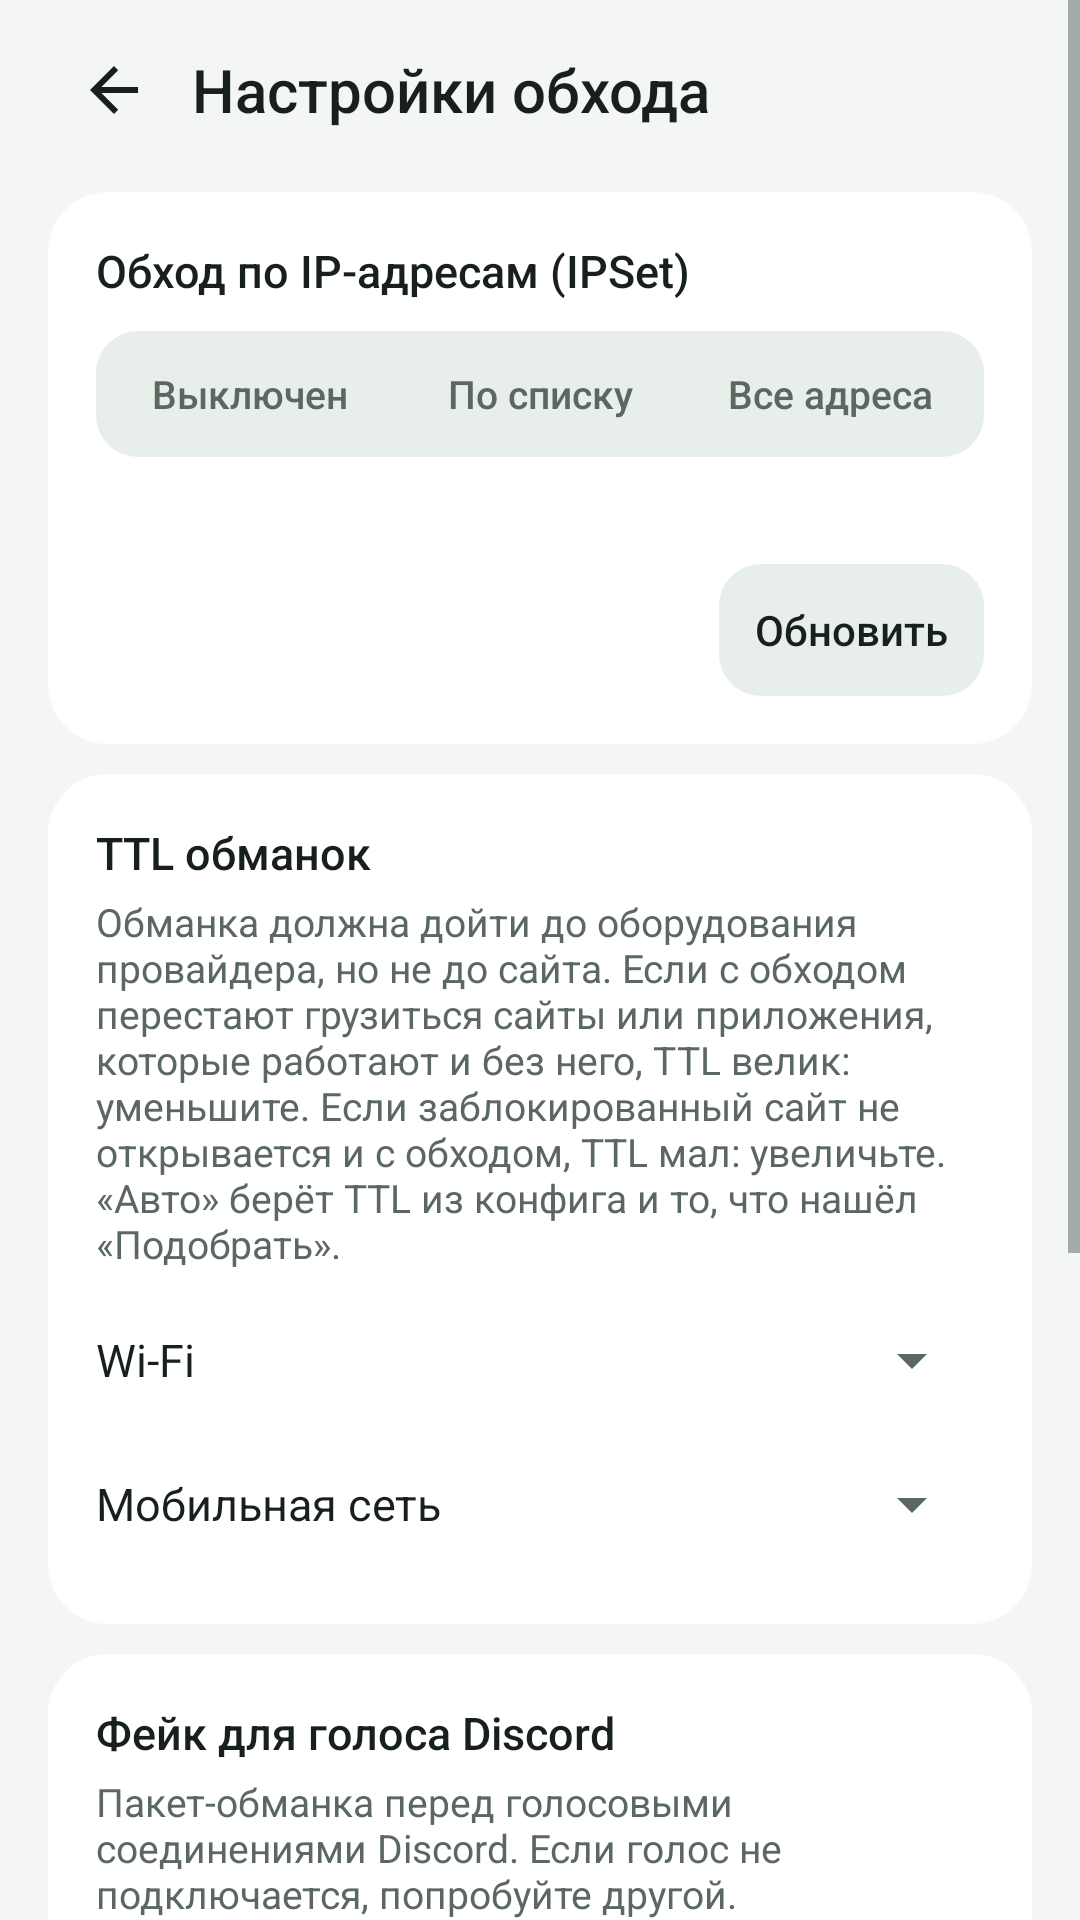

Icon bounding boxes for this 1080 x 1920 phone screenshot, format [x1=x1, y1=y1, x2=x2, y2=y2]:
Назад: [x1=90, y1=66, x2=138, y2=114]
